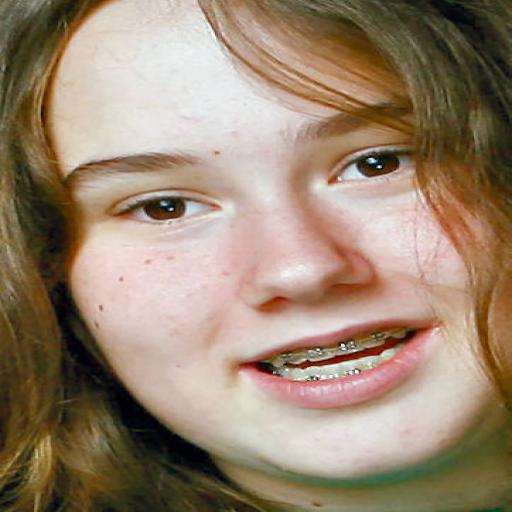Autism: (22, 11, 512, 486)
